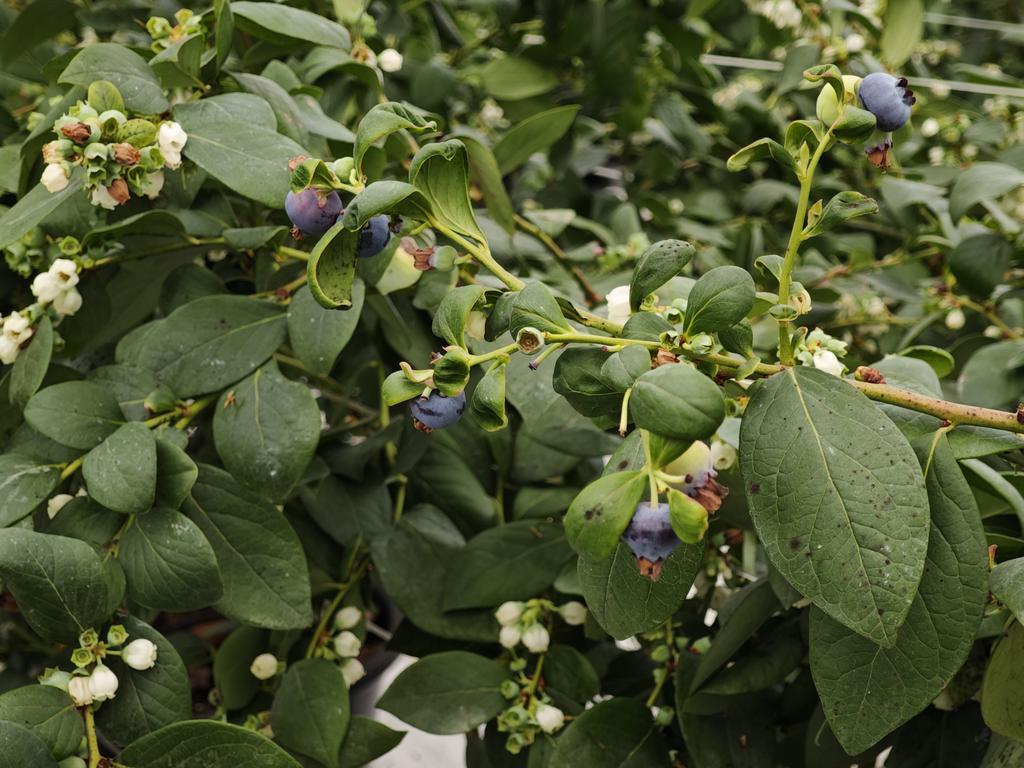RipeBlueBerry: (621, 504, 680, 571), (859, 70, 917, 129), (406, 381, 469, 434), (284, 187, 345, 236), (354, 213, 394, 259)
